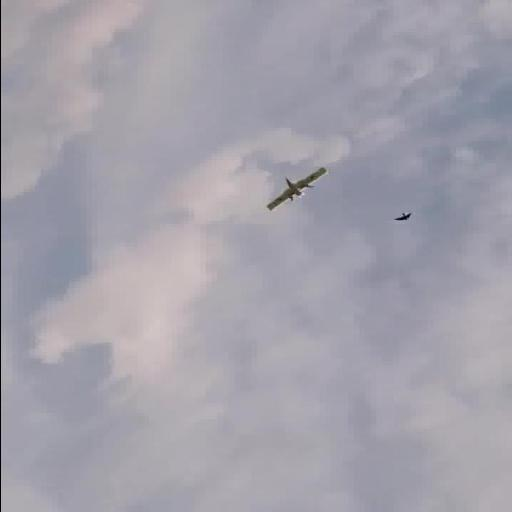uav: (259, 165, 333, 214)
